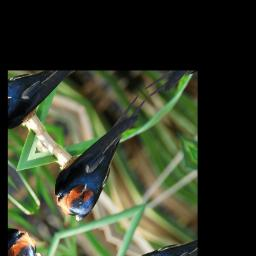Swallow: (39, 92, 176, 229)
